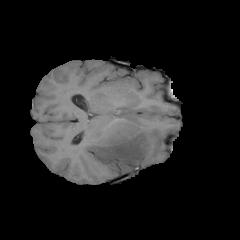glioma: (71, 106, 168, 176)
